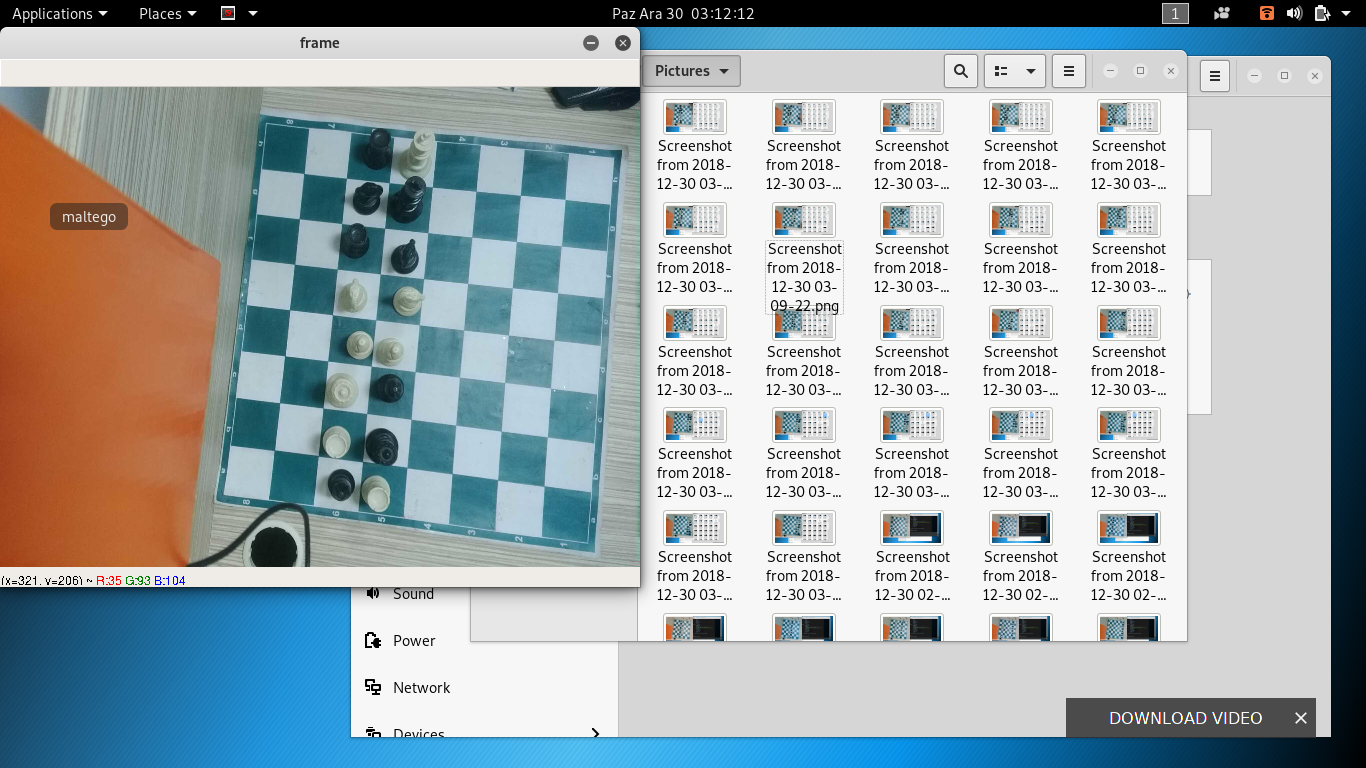BeyazAt: (393, 284, 425, 318), (338, 278, 367, 311)
BeyazFil: (347, 329, 374, 359), (376, 338, 404, 366)
BeyazKale: (359, 472, 393, 513), (321, 424, 349, 461)
BeyazSah: (399, 130, 435, 177)
BeyazVezir: (325, 370, 360, 408)
SiyahAt: (350, 180, 383, 215), (390, 239, 420, 270)
SiyahFil: (327, 467, 356, 503), (377, 374, 404, 404)
SiyahKale: (361, 128, 392, 166), (339, 224, 372, 257)
SiyahSah: (391, 176, 426, 223)
SiyahVezir: (365, 425, 402, 465)
